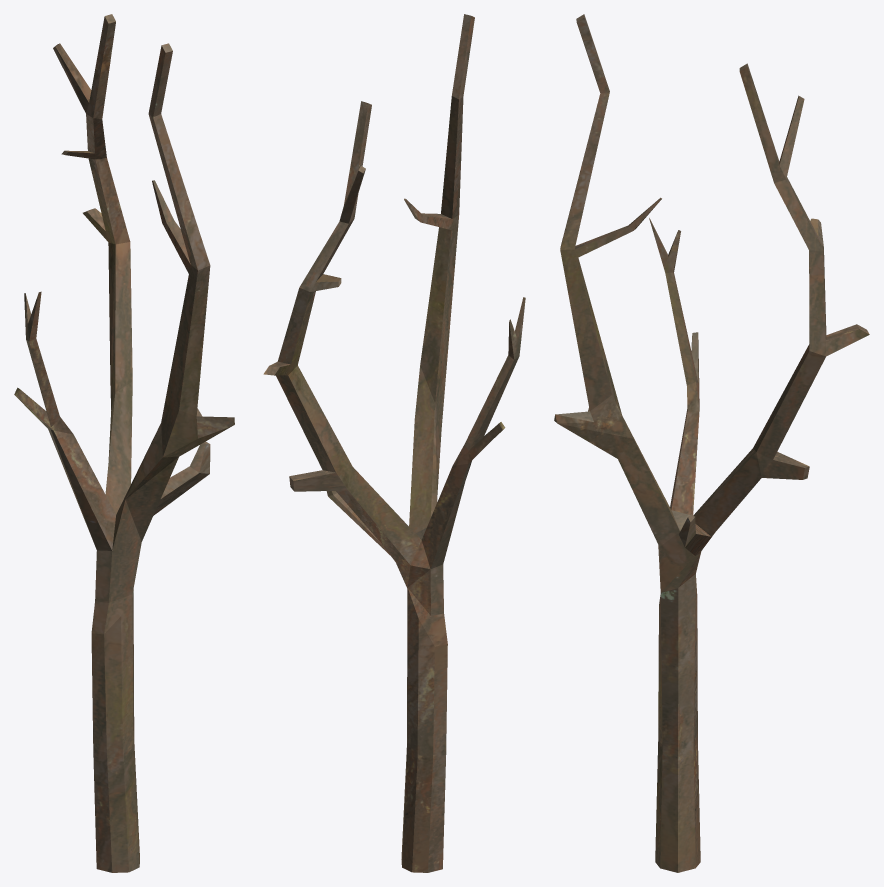
File: 장애물_나무2.fbx
3 renders of one model, left to right at view 1: azimuth 30°, elevation 25°; view 2: azimuth 150°, elevation 25°; view 3: azimuth 270°, elevation 25°, orthographic. The views are drawn at different scales.
Visible parts, largest first — view 1: tree2; view 2: tree2; view 3: tree2.
Boxes of the visible parts, x1,y1,x2,y2 form: tree2: (14, 14, 234, 872); tree2: (263, 14, 525, 872); tree2: (554, 14, 869, 872).
Bounding box in the file's own units: 261 × 1099 × 372.
